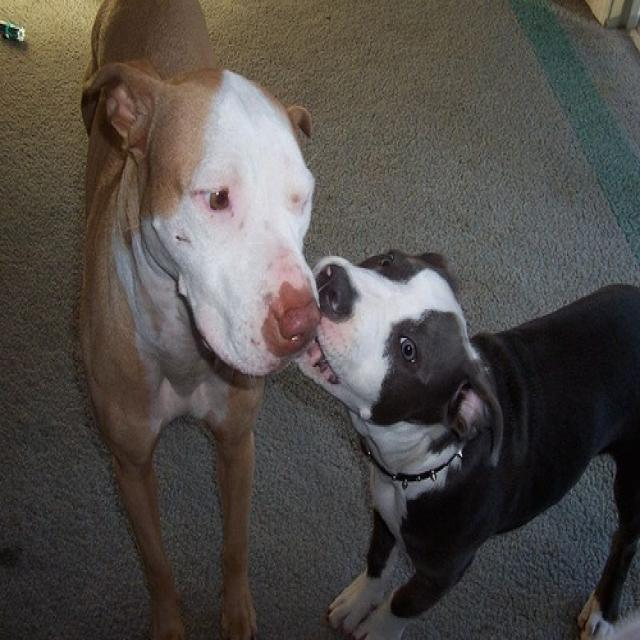dog: (80, 2, 322, 638), (294, 246, 639, 636)
